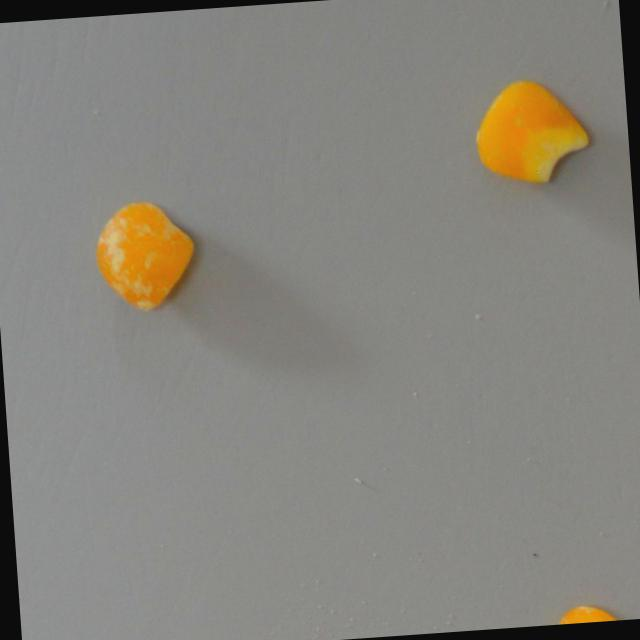no_canjicado: (469, 75, 591, 189)
pelicula: (88, 195, 200, 316), (538, 599, 636, 625)
